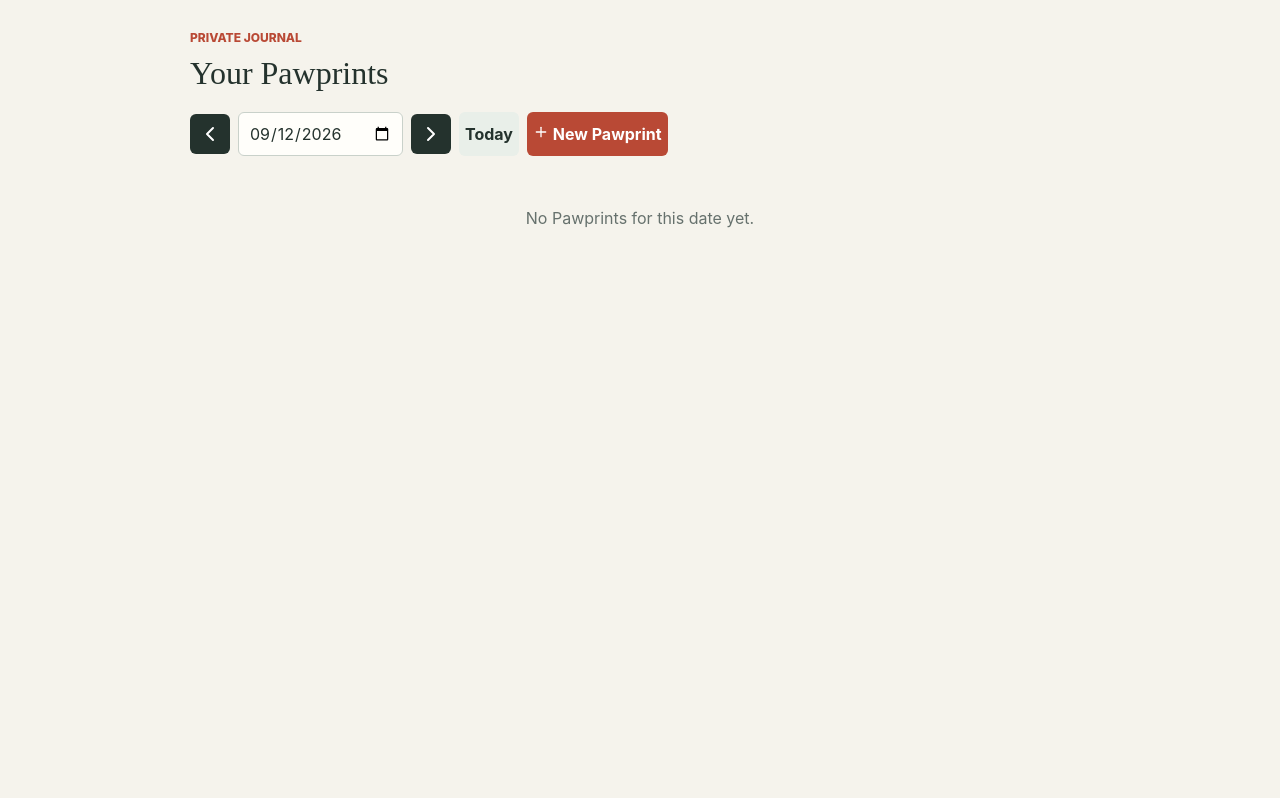
Test case: TimelinePage › refetches the selected date after a cross-date create and only renders the event on its own date
The image size is (1280, 798).
Check: the text "No Pawprints for this date yet." is shown, box [526,208,754,228]
Click the button "New Pawprint" at (597, 134), box [527,112,668,156]
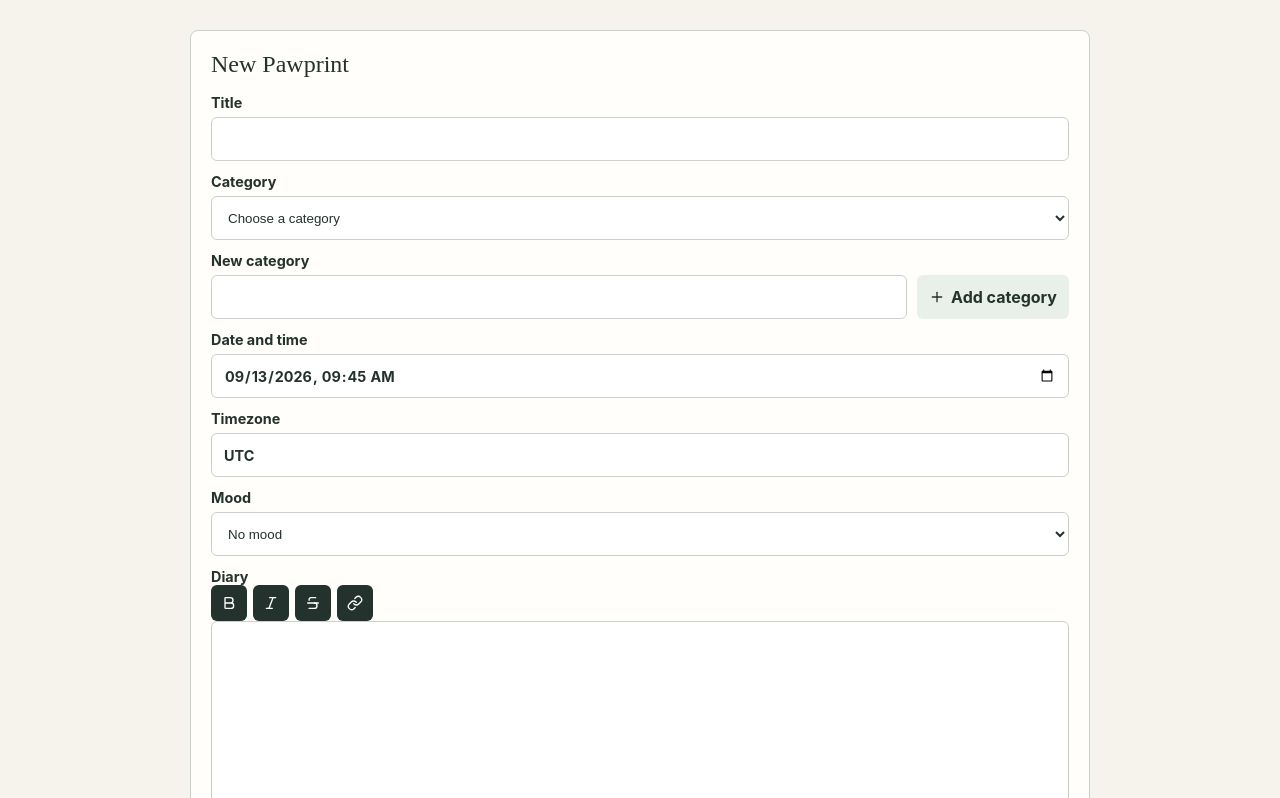
Type "Previous day run" into the field labelled "Title" at (640, 139), box [211,117,1069,161]
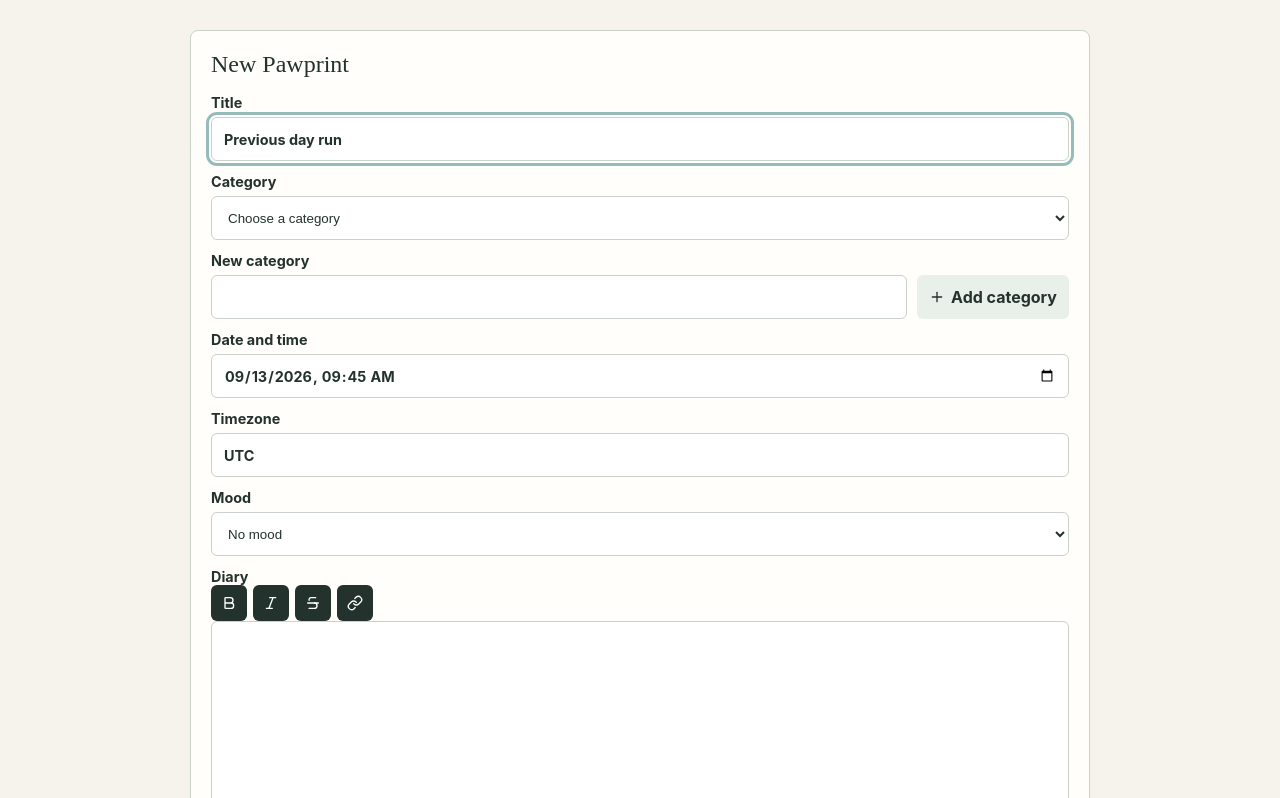
Select "Running" in the dropdown labelled "Category" at (640, 218), box [211,196,1069,240]
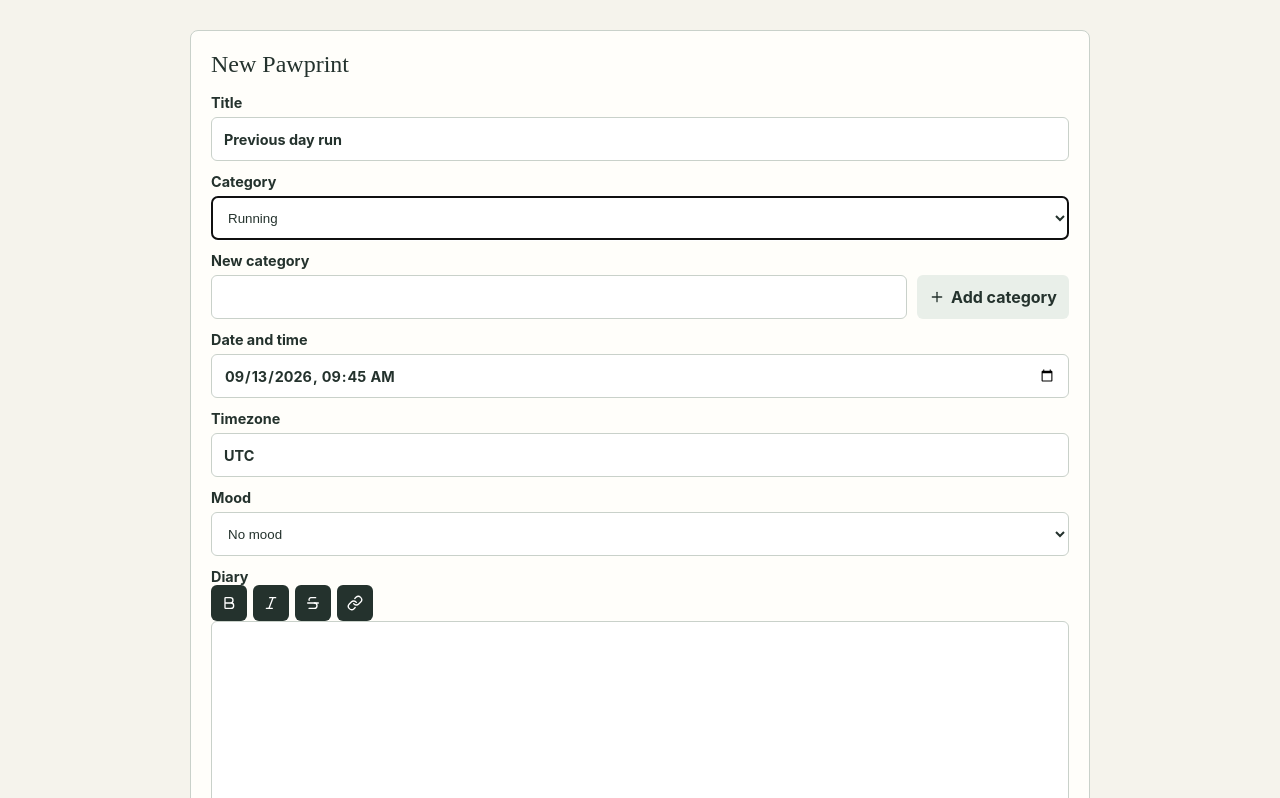
Replace the text in the field labelled "Date and time" with "2026-09-11T09:00" at (640, 376), box [211,354,1069,398]
(page scrolled)
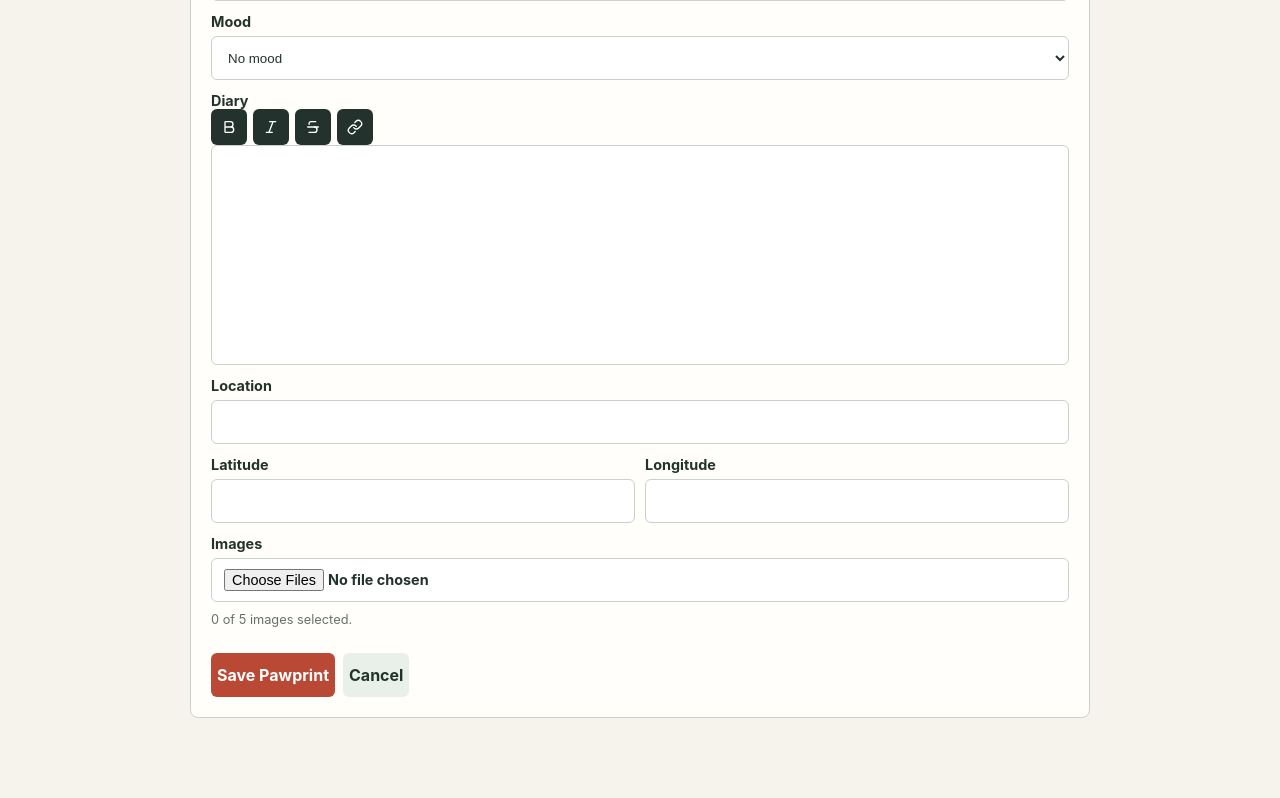
Click the button "Save Pawprint" at (273, 675), box [211,653,335,697]
(page scrolled)
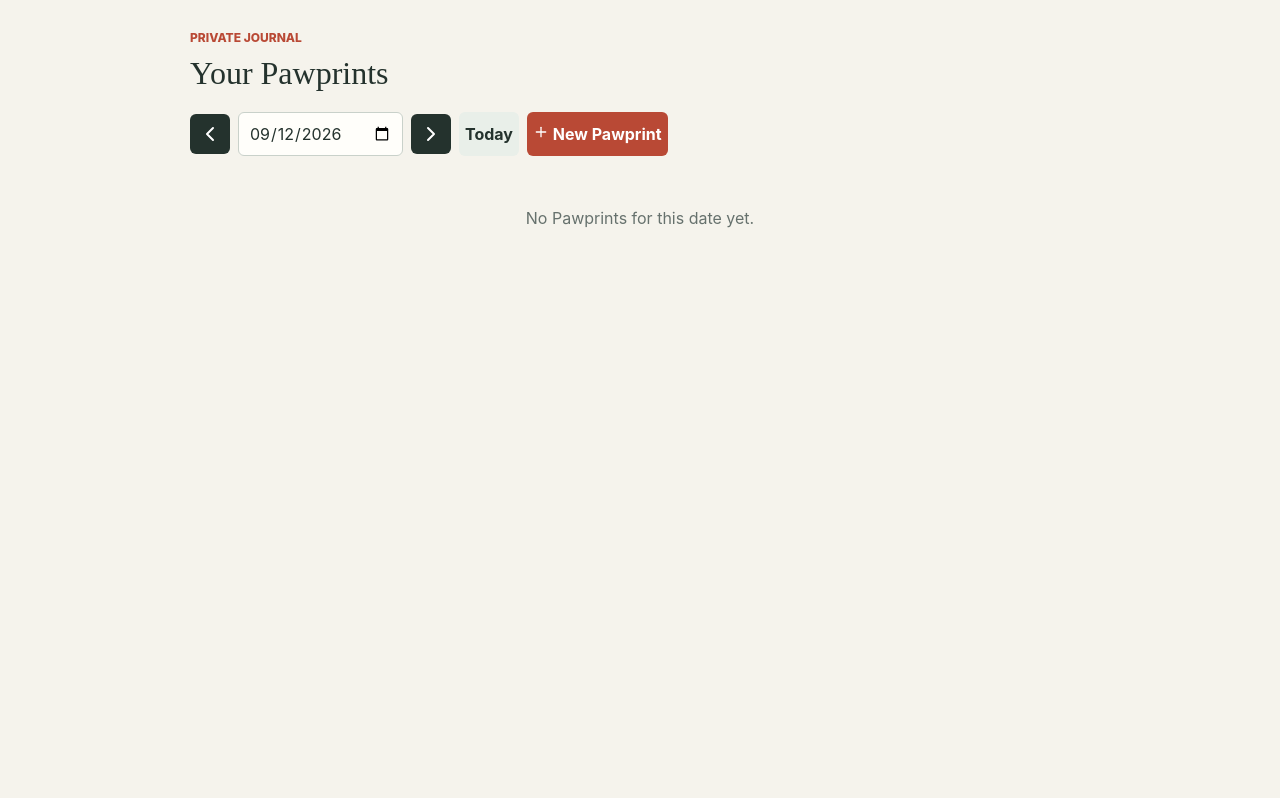
Check: the text "Previous day run" is not shown
Type "2026-09-11" into the date field named "Timeline date" at (320, 134), box [238,112,403,156]
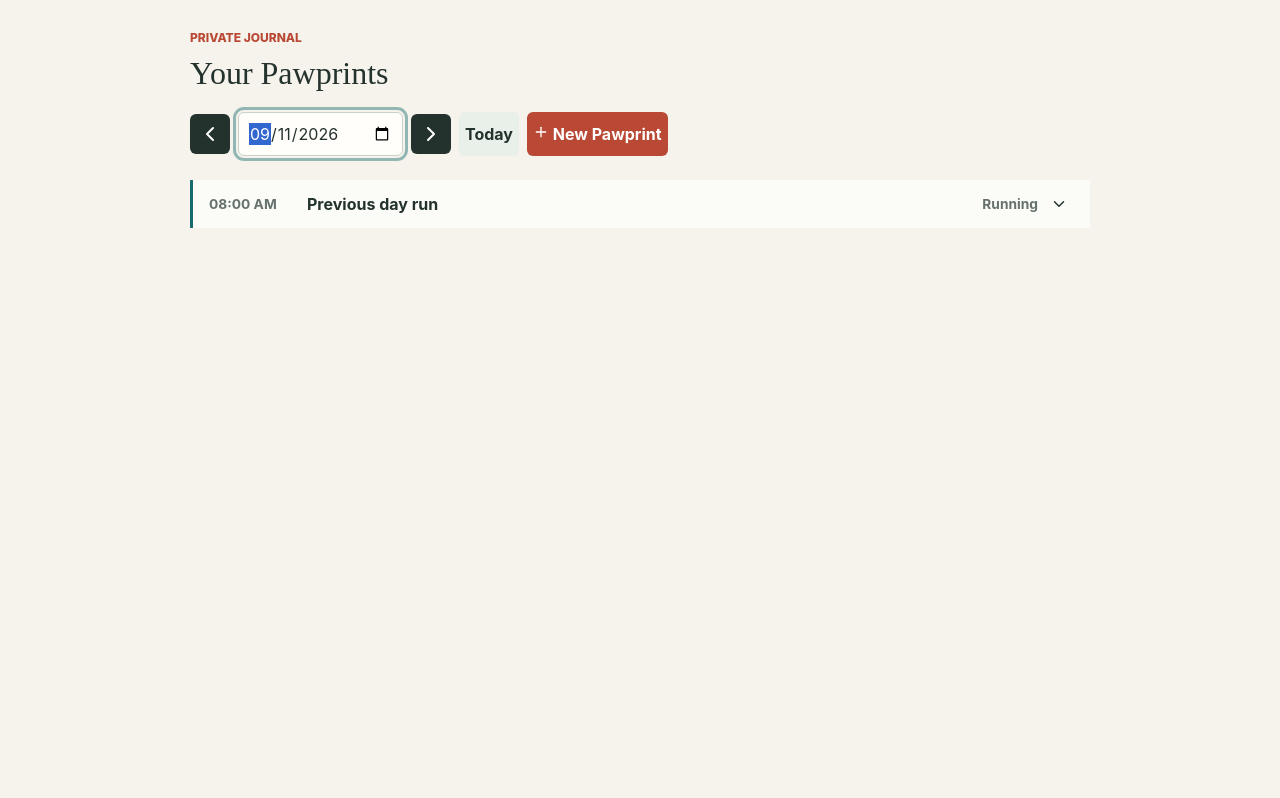
Check: the text "Previous day run" is shown, box [307,194,438,214]
